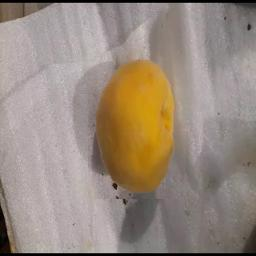Peach Semifresh: (88, 53, 190, 199)
